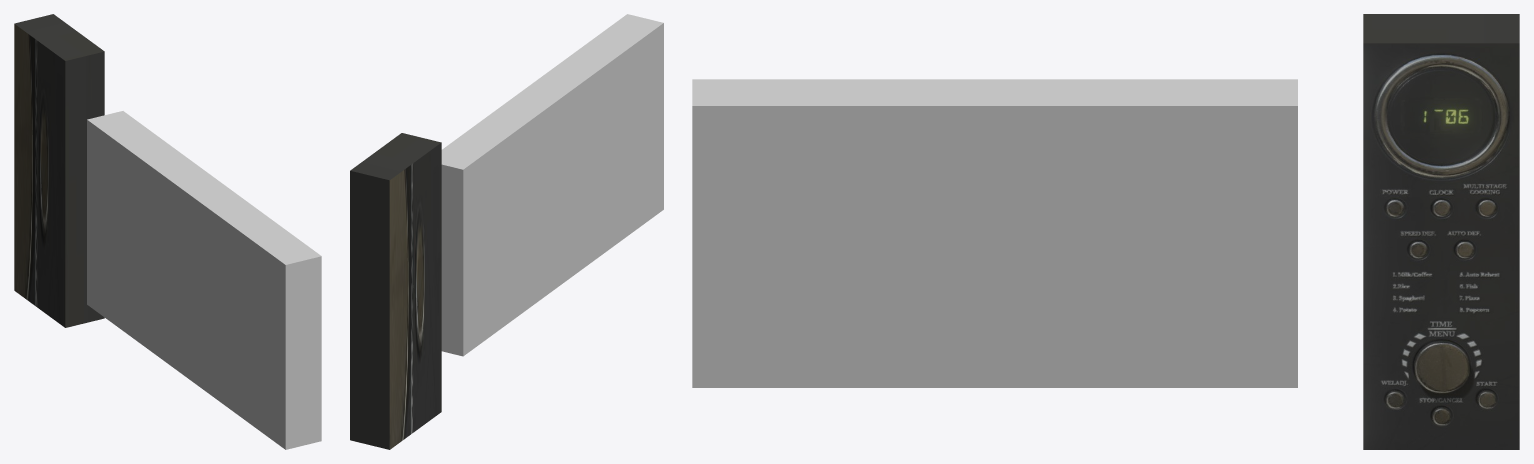
The model's file is Microwave 2.fbx.
3 views of the same model, side by side, from view 1: azimuth 30°, elevation 25°; view 2: azimuth 150°, elevation 25°; view 3: azimuth 270°, elevation 25° (orthographic). The views are drawn at different scales.
Parts seen in each view (by area): view 1: Glass, Volume Panel; view 2: Glass, Volume Panel; view 3: Glass, Volume Panel.
Part boxes in pixels (x1,y1,x2,y2): Glass: (87, 111, 321, 449); Volume Panel: (14, 14, 104, 327); Glass: (441, 14, 663, 356); Volume Panel: (350, 133, 441, 449); Glass: (692, 79, 1297, 387); Volume Panel: (1363, 14, 1519, 449).
Bounding box in the file's own units: 35.36 × 229 × 423.
